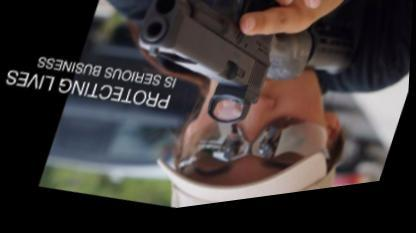pistol: (113, 0, 296, 151)
